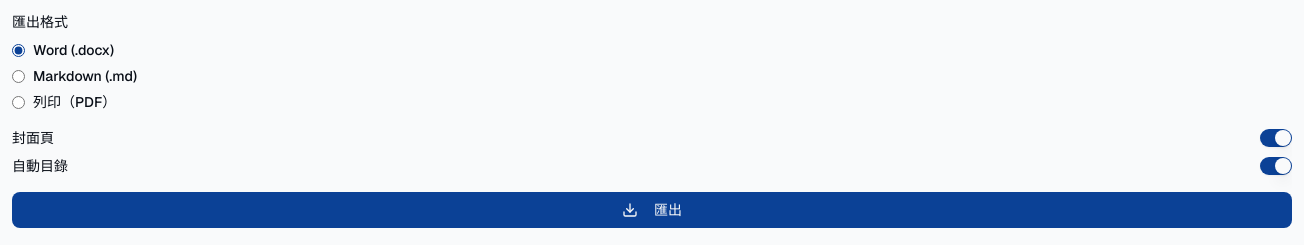
it: ExportPanel › 切換到 markdown 格式時隱藏封面頁和目錄
Click the radio button labelled "Markdown (.md)" at (18, 76), box [12, 70, 25, 82]
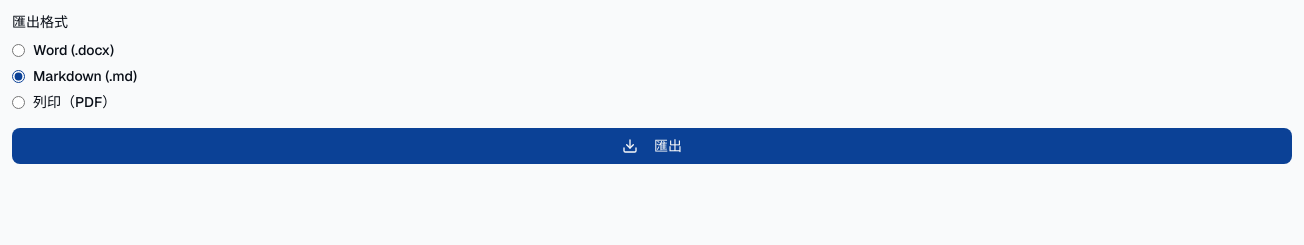
Check: the text "封面頁" is gone
Check: the text "自動目錄" is gone
